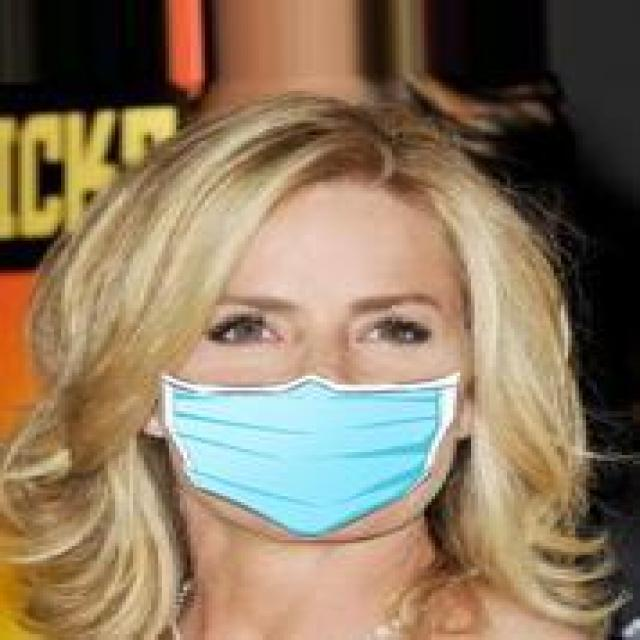mask: (61, 68, 586, 540)
